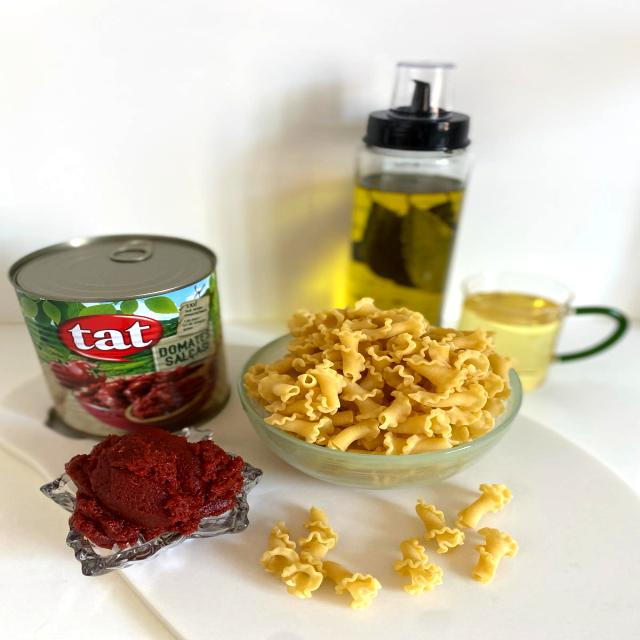olive oil: (348, 167, 456, 313), (462, 272, 566, 353)
tomato paste: (0, 236, 235, 429), (45, 418, 252, 556)
